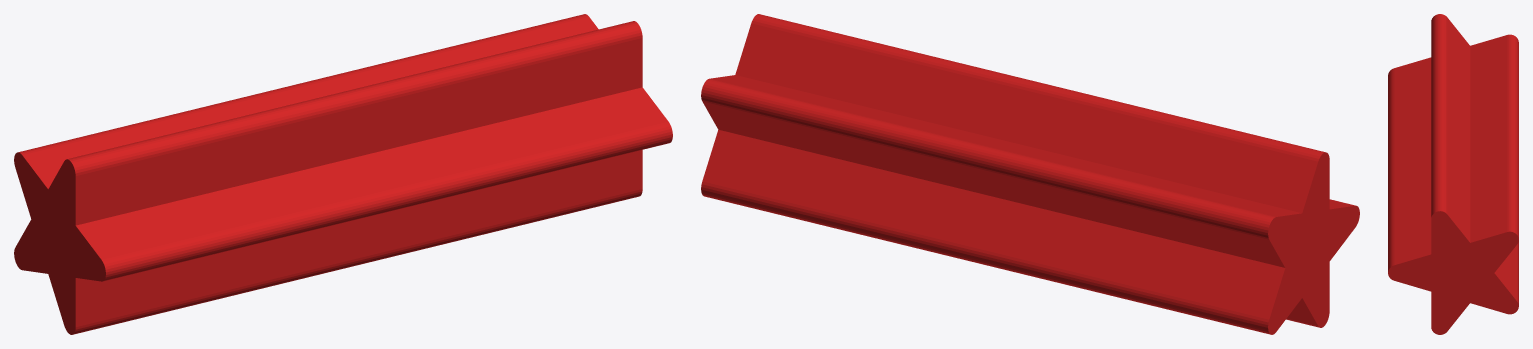
Rendered from peg_40_canonical_colored.obj.
The picture shows the model from 3 angles, left to right: view 1: azimuth 30°, elevation 25°; view 2: azimuth 150°, elevation 25°; view 3: azimuth 270°, elevation 25°; orthographic projection. The views are drawn at different scales.
Bounding box in the file's own units: 0.15 × 0.0439 × 0.0421.
